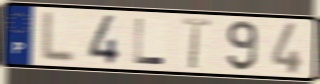4: (86, 13, 122, 67), (270, 20, 304, 76)
9: (225, 20, 260, 73)
L: (38, 10, 77, 66), (133, 16, 168, 67)
T: (180, 16, 214, 71)
